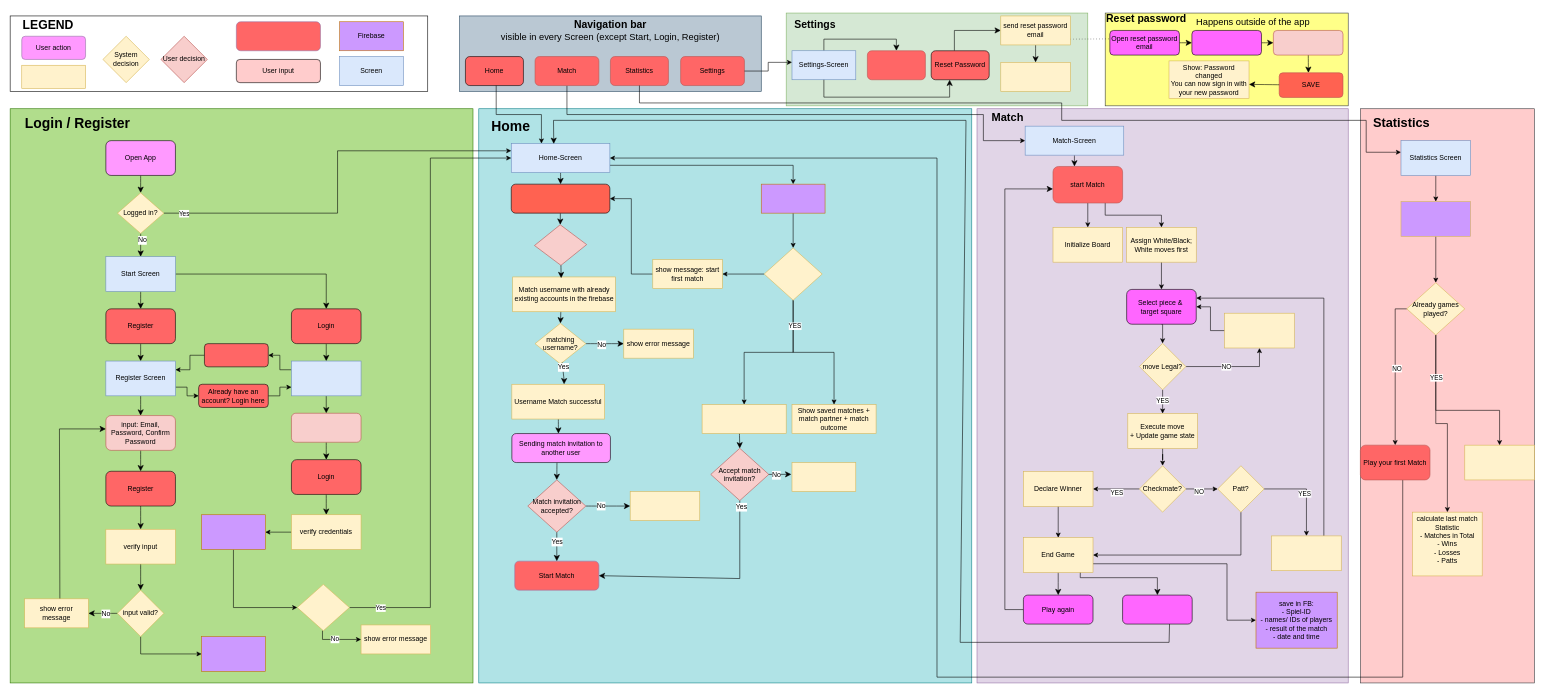
The diagram is 1545 pixels wide and 693 high, and some of its shapes have lost their labels. The shapes that lost their labels are listed below. From the top down, each one's centre as x and y in pixels, then its label:
At [278,36]: "Button".
At [1226,42]: "click on link".
At [1308,42]: "input: New password".
At [53,76]: "System action".
At [896,65]: "Logout".
At [1035,76]: "show message: password reset email sent".
At [560,198]: "Find Matchpartner".
At [793,198]: "Load game history from DB".
At [1435,218]: "Get Data History from firebase".
At [560,245]: "Type in username".
At [793,273]: "Already existing matches?".
At [1259,330]: "notification: Illegal move!".
At [236,355]: "No account? Register here".
At [326,378]: "Login-Screen".
At [326,427]: "input: Email, Password".
At [744,419]: "Show Match Invitations".
At [823,477]: "send message, invitation declined".
At [1499,462]: "Match history: Show history of last matches + outcome".
At [665,506]: "show invitation declined".
At [233,532]: "compare with already existing Data".
At [1306,553]: "Swich turns".
At [323,607]: "credentials valid?".
At [1157,609]: "Exist game".
At [233,653]: "save username and passwort".
